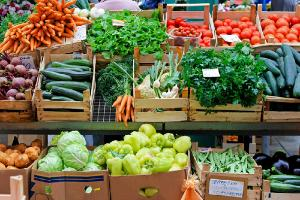beet: (0, 52, 44, 102)
bell_pepper: (98, 132, 198, 186)
carrot: (1, 0, 86, 54), (90, 64, 134, 123)
cucumber: (40, 56, 94, 108), (255, 46, 300, 100)
eggplant: (256, 144, 300, 176)
tomato: (168, 8, 215, 44), (216, 9, 262, 43), (262, 9, 300, 43)
zucchini: (260, 168, 300, 200)
